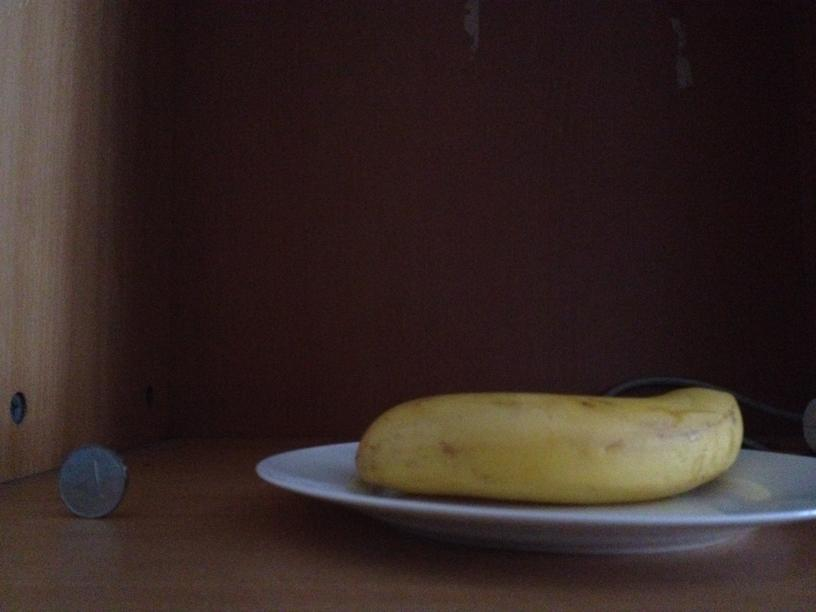banana: (352, 388, 744, 498)
coin: (57, 443, 126, 517)
